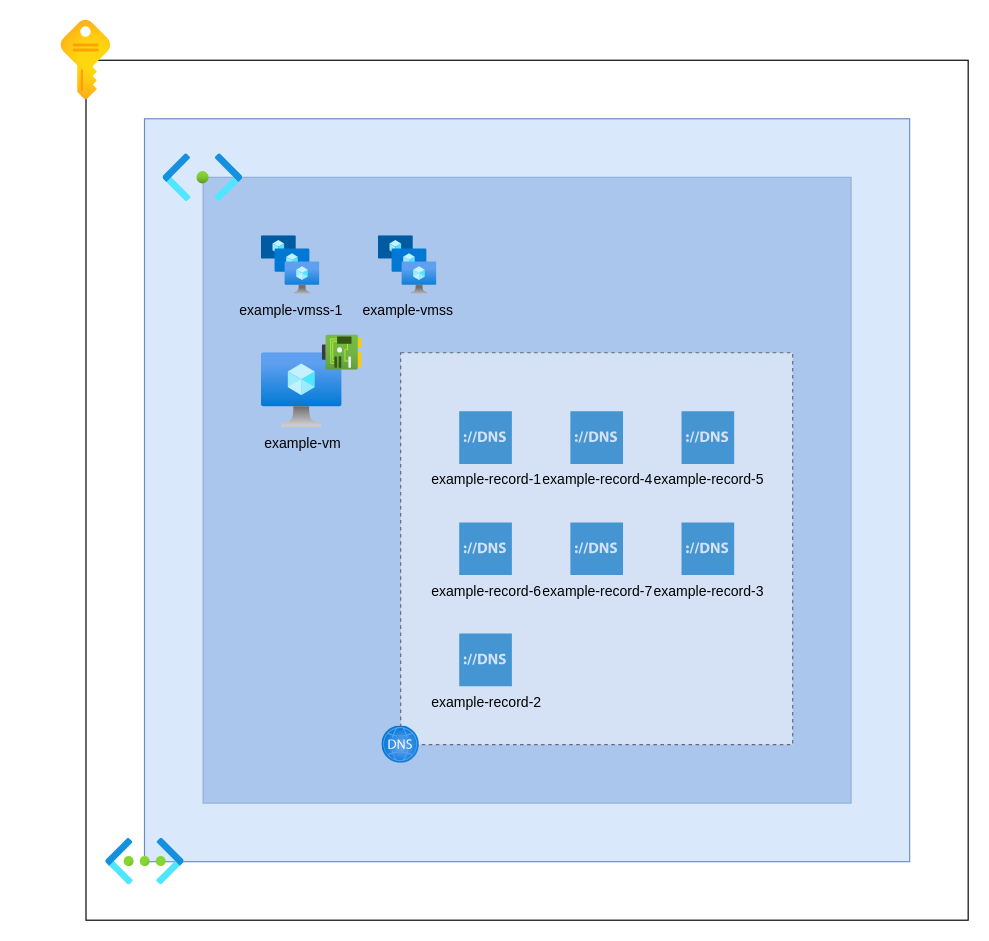
This 989x941 diagram has some shape labels left out. The shapes that lost their labels are listed below. From the top down, each one's centre as x and y in pixels, then its label:
At pixel 85 59: "example-subscription".
At pixel 202 177: "example-snet/22".
At pixel 400 744: "example-private-dns-zone".
At pixel 144 861: "example-vnet/21".
